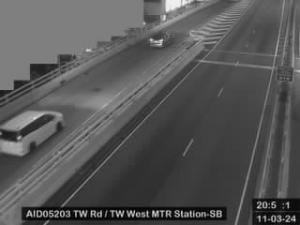vehicle: (0, 110, 66, 158), (150, 30, 174, 48)
